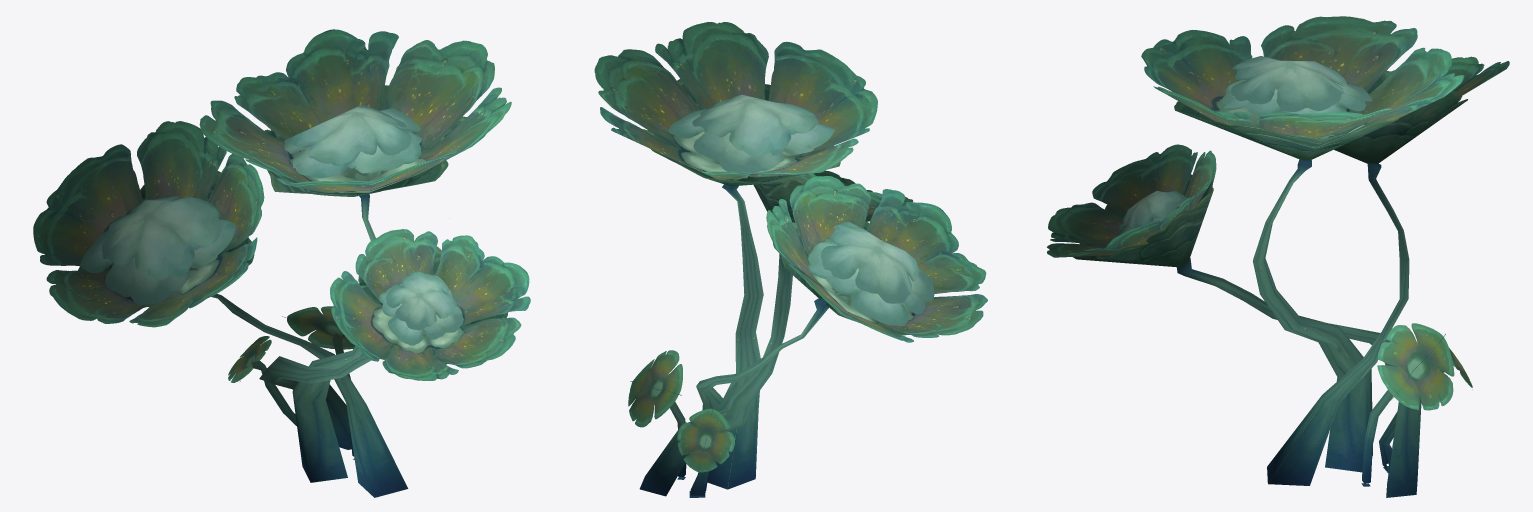
3 views of the same model, side by side, from view 1: azimuth 30°, elevation 25°; view 2: azimuth 150°, elevation 25°; view 3: azimuth 270°, elevation 25° (orthographic). The views are drawn at different scales.
Size of the model in its own units: 4.74 by 4.45 by 4.55.
Materials: 1 (1 with a texture image).
